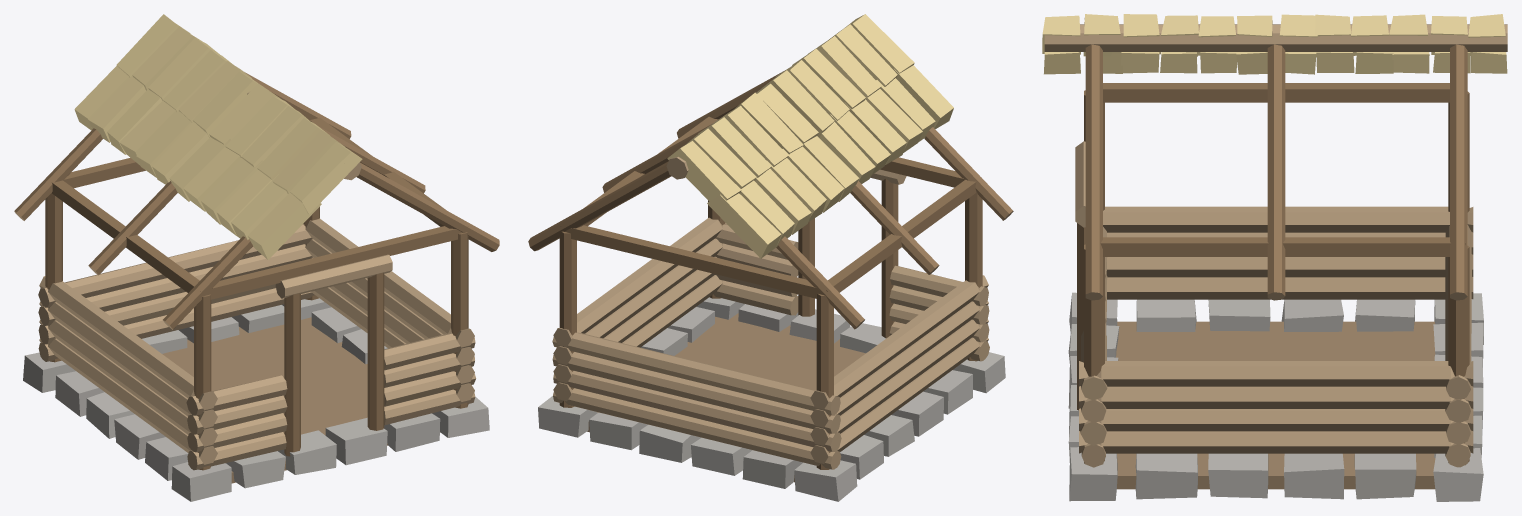
The model's file is building_log_house_half.glb.
The picture shows the model from 3 angles, left to right: view 1: azimuth 30°, elevation 25°; view 2: azimuth 150°, elevation 25°; view 3: azimuth 270°, elevation 25°; orthographic projection. The views are drawn at different scales.
Parts seen in each view (by area): view 1: building_log_house_half; view 2: building_log_house_half; view 3: building_log_house_half.
Boxes of the visible parts, x1,y1,x2,y2 form: building_log_house_half: (14, 14, 499, 501); building_log_house_half: (528, 14, 1013, 501); building_log_house_half: (1042, 14, 1507, 501).
Size of the model in its own units: 3.85 by 3.56 by 3.78.
